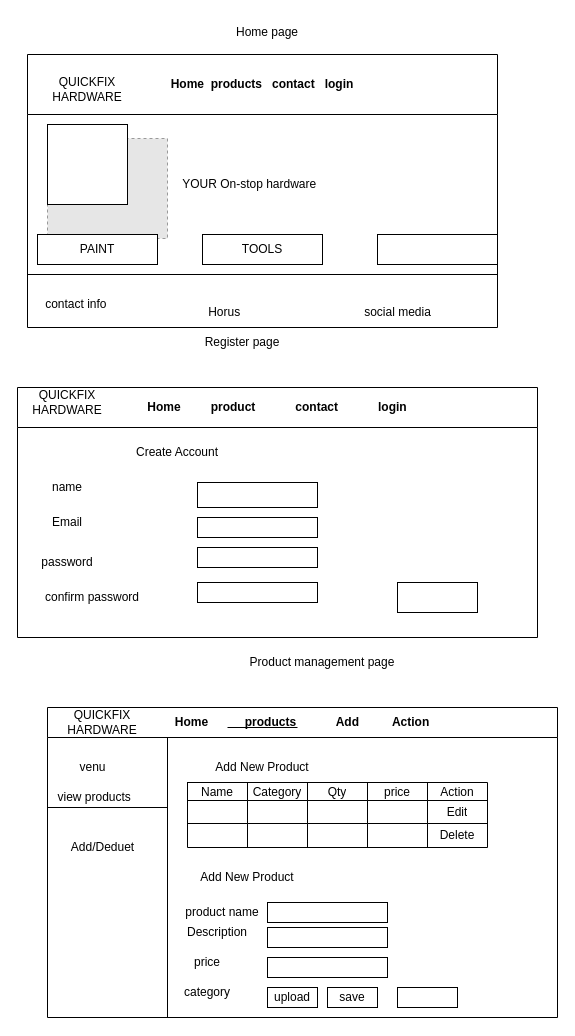
This 575x1036 diagram has some shape labels left out. Grey dashed boxes stand in for pictures. The centre of each missing label's shape, as x and y in pixels:
"BUILDING SUPPLIES" belongs at pixel 437 249.
"cancel" belongs at pixel 427 997.
"SIGN UP" belongs at pixel 437 597.
